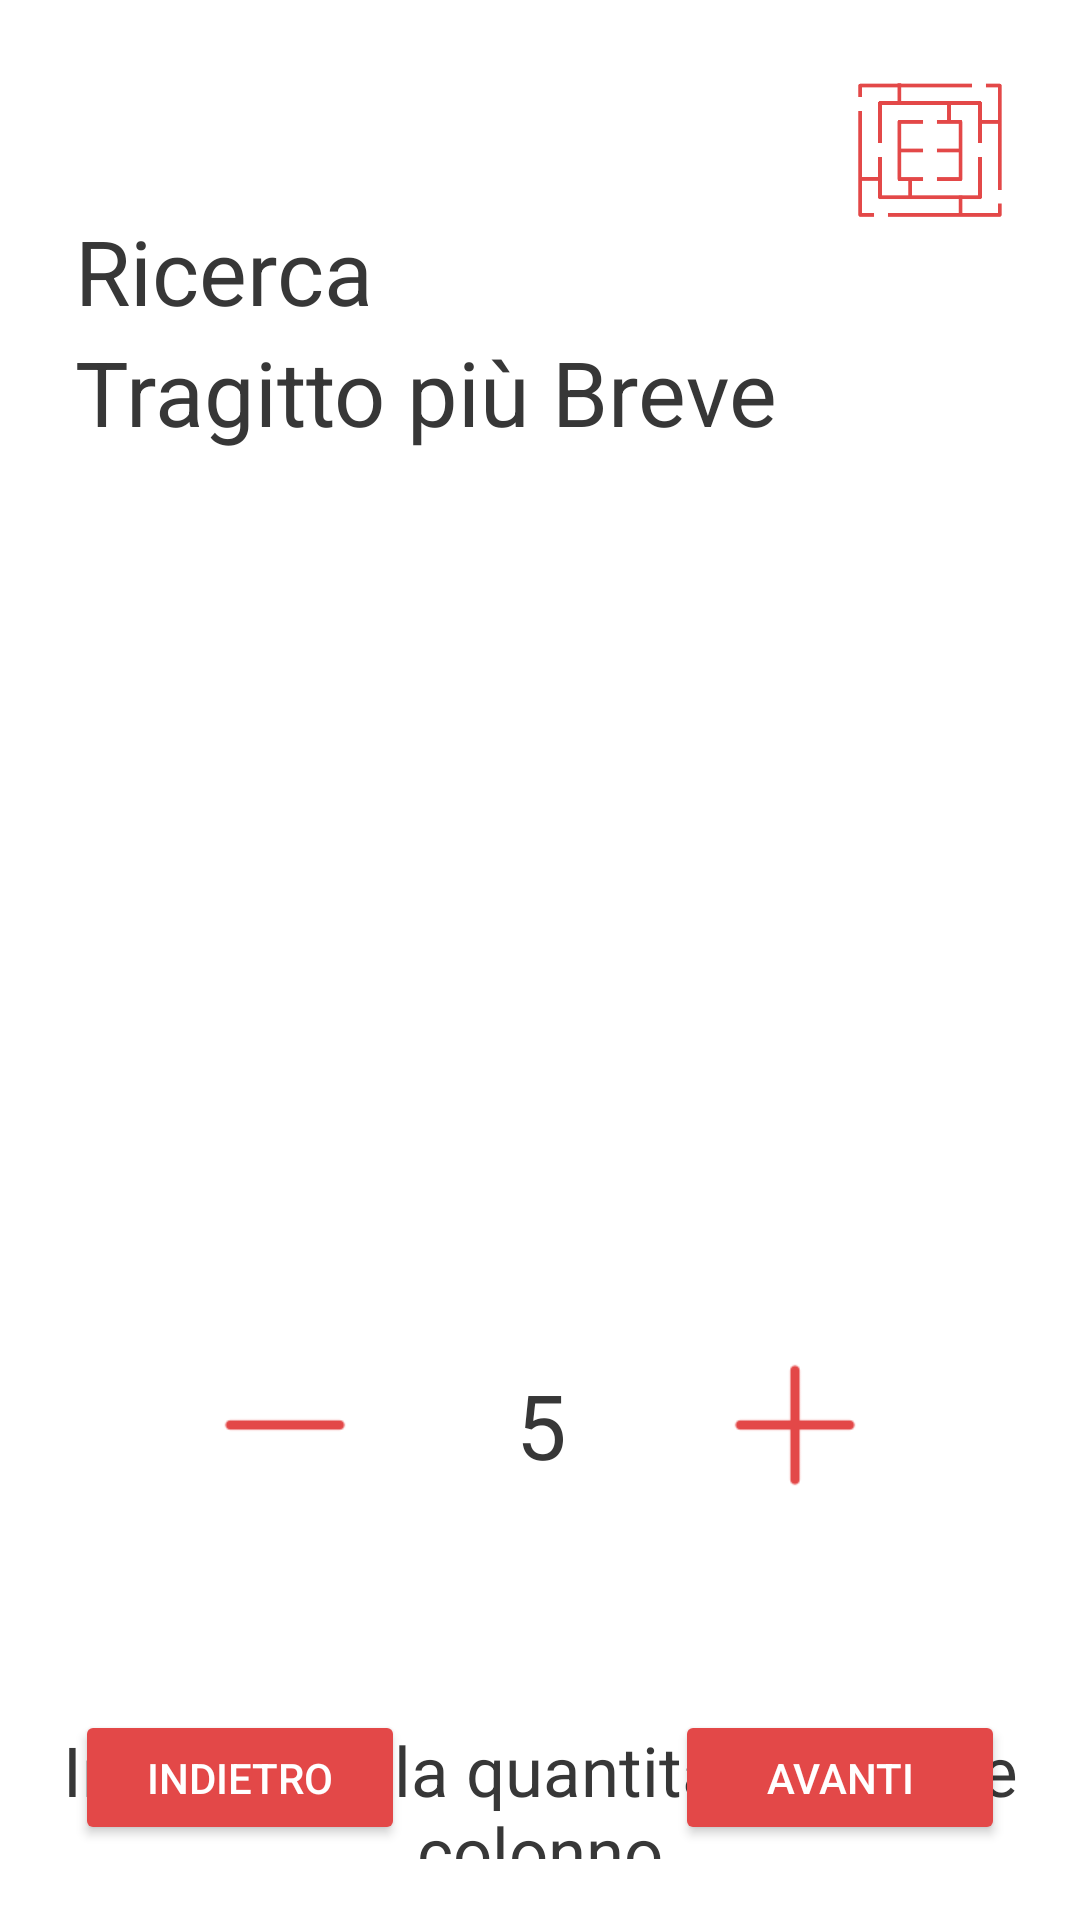

Icons on this 1080w x 1920h Android screen, each with its box as region(x1, y1, x2, y2):
plus: region(735, 1365, 855, 1485)
